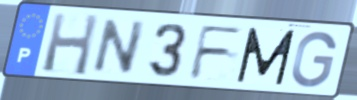3: (145, 22, 191, 79)
F: (187, 24, 247, 82)
G: (288, 29, 339, 90)
H: (39, 11, 101, 78)
M: (234, 25, 298, 87)
N: (88, 17, 150, 76)
